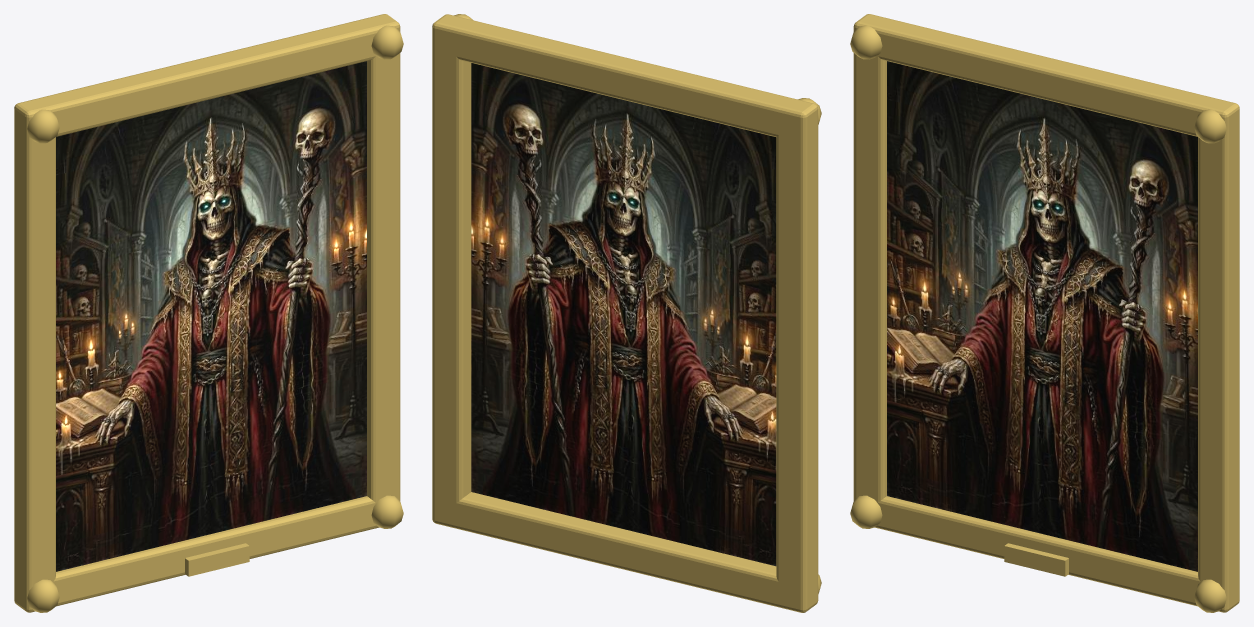
Rendered from art_archlich_headmaster.glb.
The picture shows the model from 3 angles, left to right: view 1: azimuth 30°, elevation 25°; view 2: azimuth 150°, elevation 25°; view 3: azimuth 330°, elevation 25°; orthographic projection.
Parts seen in each view (by area): view 1: GD_art_archlich_headmaster__m0, GD_art_archlich_headmaster__m1; view 2: GD_art_archlich_headmaster__m0, GD_art_archlich_headmaster__m1; view 3: GD_art_archlich_headmaster__m0, GD_art_archlich_headmaster__m1.
Boxes of the visible parts, x1=… form: GD_art_archlich_headmaster__m0: x1=56, y1=61, x2=366, y2=571; GD_art_archlich_headmaster__m1: x1=14, y1=14, x2=403, y2=612; GD_art_archlich_headmaster__m0: x1=471, y1=63, x2=776, y2=566; GD_art_archlich_headmaster__m1: x1=432, y1=14, x2=821, y2=612; GD_art_archlich_headmaster__m0: x1=887, y1=61, x2=1197, y2=571; GD_art_archlich_headmaster__m1: x1=850, y1=14, x2=1239, y2=612.
Size of the model in its own units: 0.86 by 1.1 by 0.095.
Materials: 2 (1 with a texture image).
